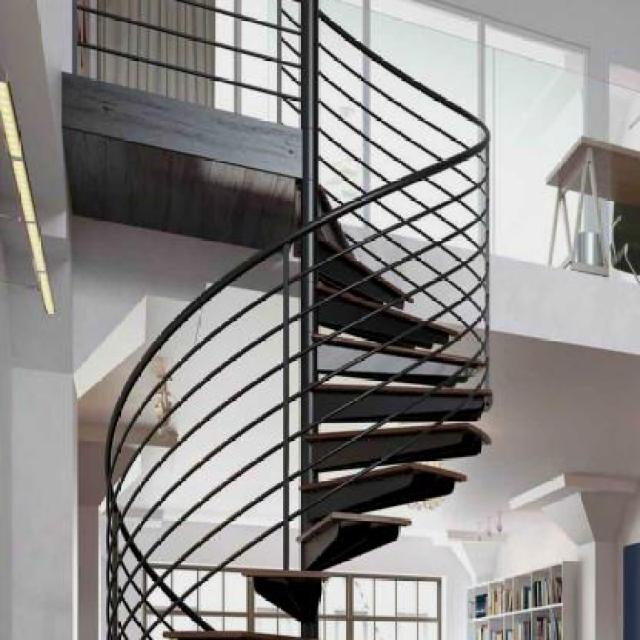stair: (60, 2, 506, 616)
